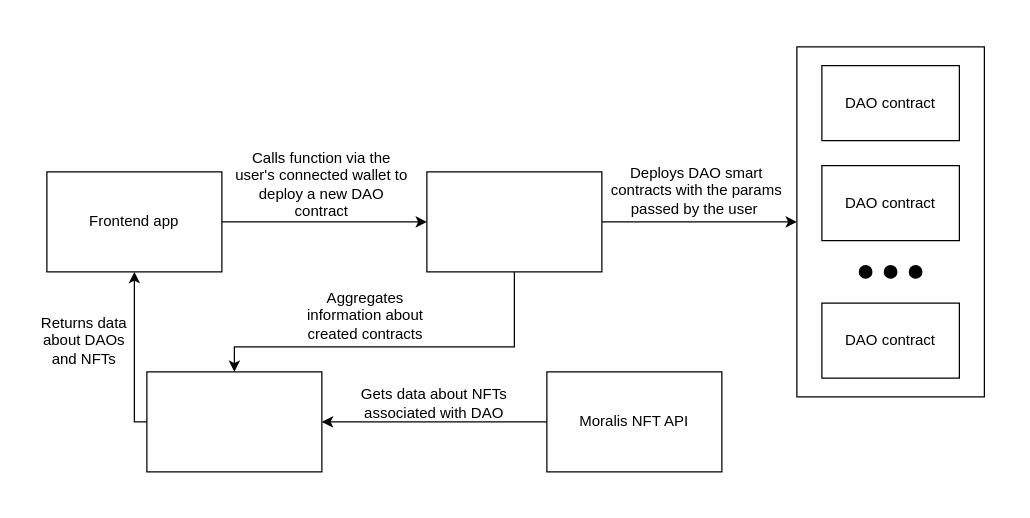
Some shapes in this 1030 by 518 pixel diagram are drawn without their labels. The shapes that lost their labels are listed below. From the top down, each one's box as (x1, y1, x2, y2) in pixels, then its label:
(426, 171, 602, 272): DAO contracts factory
(146, 371, 322, 472): Backend
